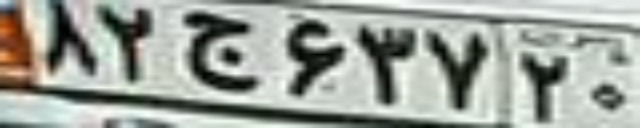0: (587, 82, 629, 112)
2: (100, 4, 168, 81), (519, 52, 578, 122)
3: (353, 20, 417, 106)
6: (279, 17, 347, 97)
7: (422, 24, 492, 111)
8: (39, 3, 98, 75)
jim: (178, 13, 259, 90)
